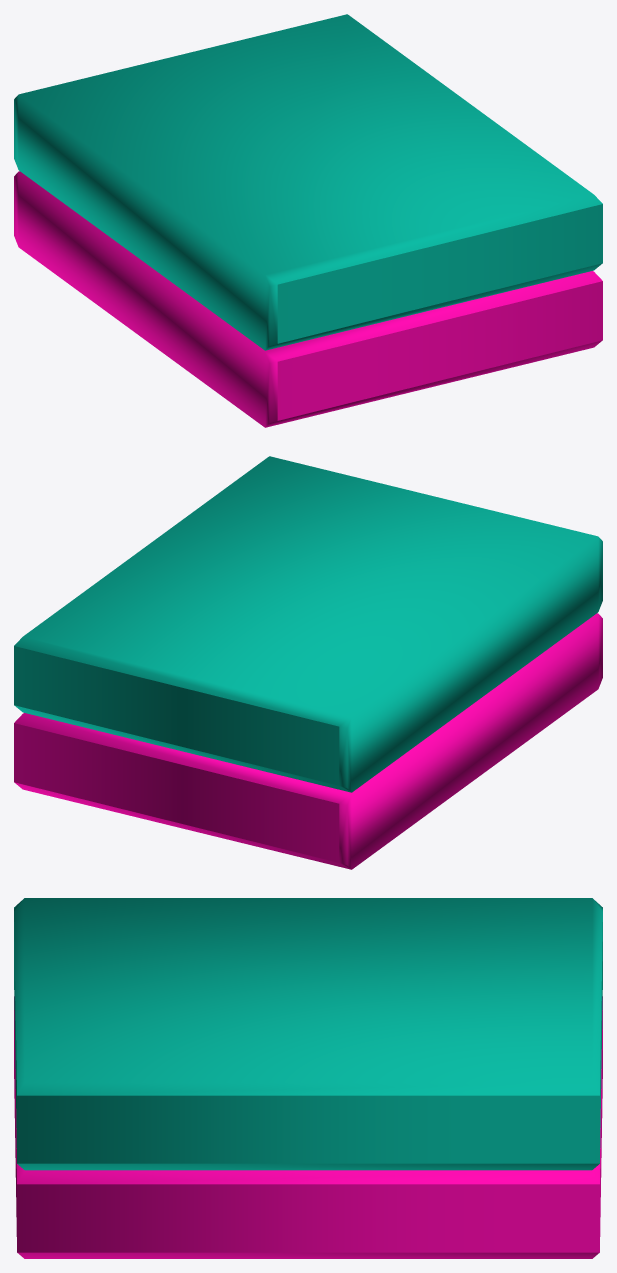
Rendered from Book_Group_03.FBX.
3 views of the same model, one above another, from view 1: azimuth 30°, elevation 25°; view 2: azimuth 150°, elevation 25°; view 3: azimuth 270°, elevation 25° (orthographic). The views are drawn at different scales.
Parts seen in each view (by area): view 1: Object002; view 2: Object002; view 3: Object002.
Boxes of the visible parts, x1=… form: Object002: x1=14, y1=14, x2=602, y2=427; Object002: x1=14, y1=456, x2=602, y2=869; Object002: x1=14, y1=898, x2=602, y2=1258.
Bounding box in the file's own units: 30.08 × 13.14 × 39.83.
